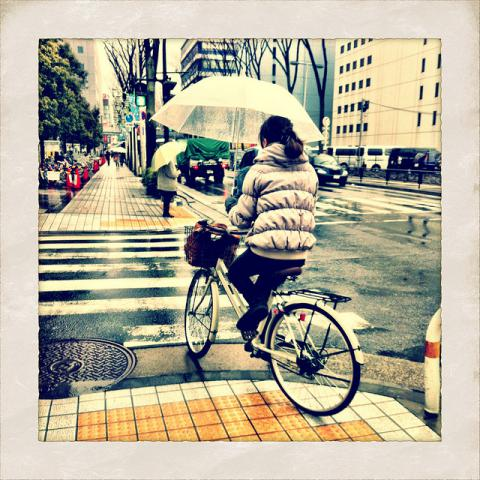car: (354, 146, 406, 175), (308, 153, 349, 187), (387, 147, 441, 171), (326, 145, 359, 172), (237, 145, 262, 169)
truck: (176, 138, 230, 184)
